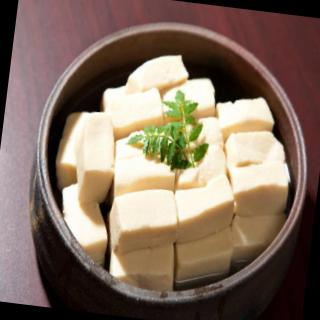Tahu: (44, 39, 308, 300)
